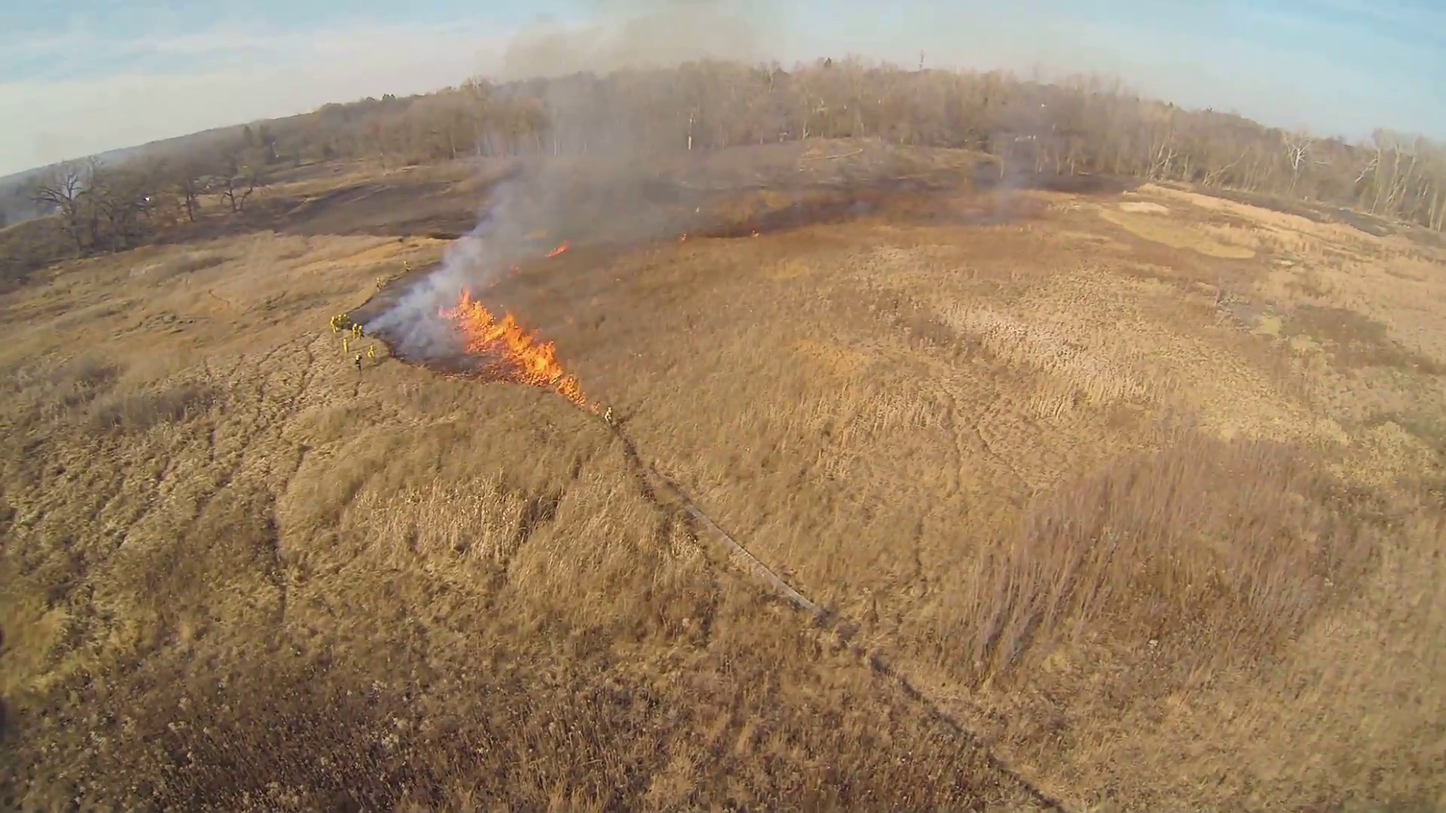forest_fire: (439, 291, 595, 410), (545, 242, 569, 257)
